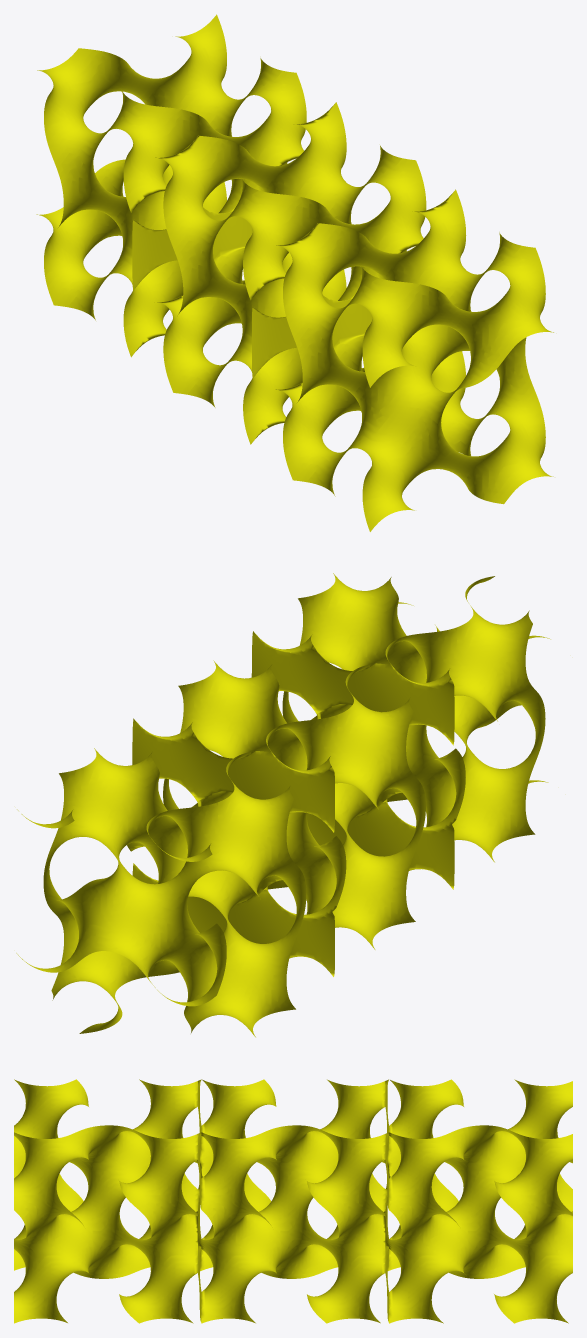
File: lattice_non_periodic.glb
The picture shows the model from 3 angles, top to bottom: view 1: azimuth 30°, elevation 25°; view 2: azimuth 150°, elevation 25°; view 3: azimuth 270°, elevation 25°; orthographic projection. The views are drawn at different scales.
Visible parts, largest first — view 1: world; view 2: world; view 3: world.
Part boxes in pixels (x1,y1,x2,y2): world: [36, 14, 553, 531]; world: [16, 573, 550, 1037]; world: [14, 1079, 572, 1323].
Size of the model in its own units: 49 by 49 by 149.
